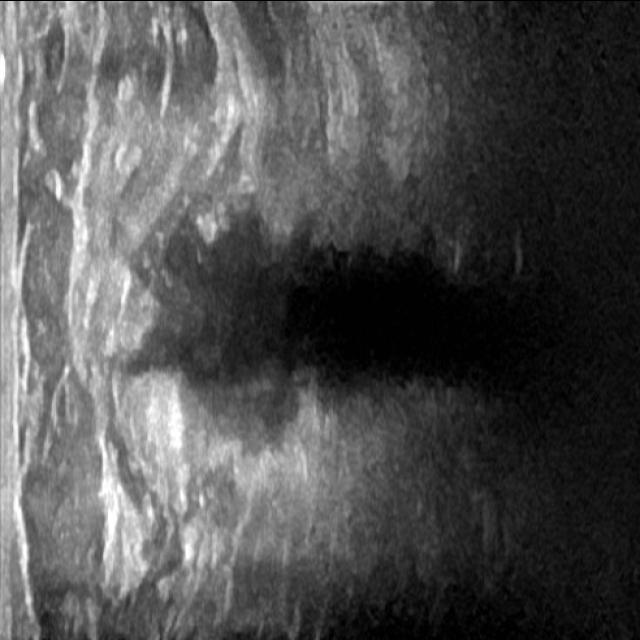Malignant: (127, 210, 331, 418)
